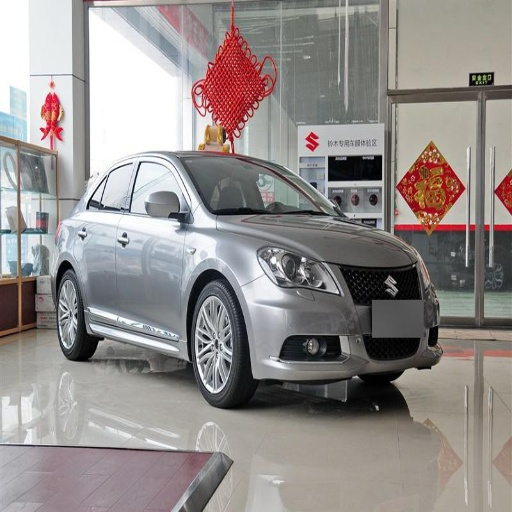front_bumper: (241, 262, 435, 382)
front_right_door: (117, 157, 189, 338)
front_right_light: (256, 243, 337, 292)
